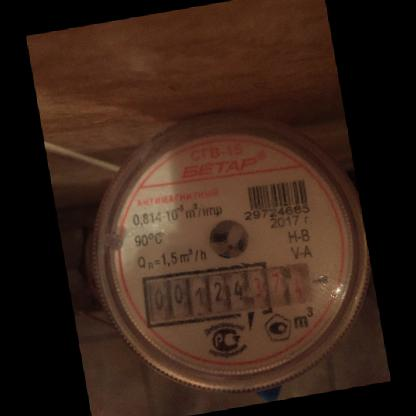digital_screen: (140, 261, 251, 329)
